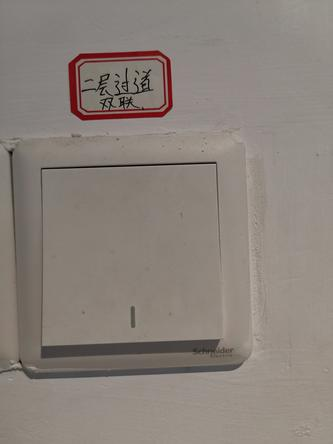switch: (40, 151, 233, 356)
